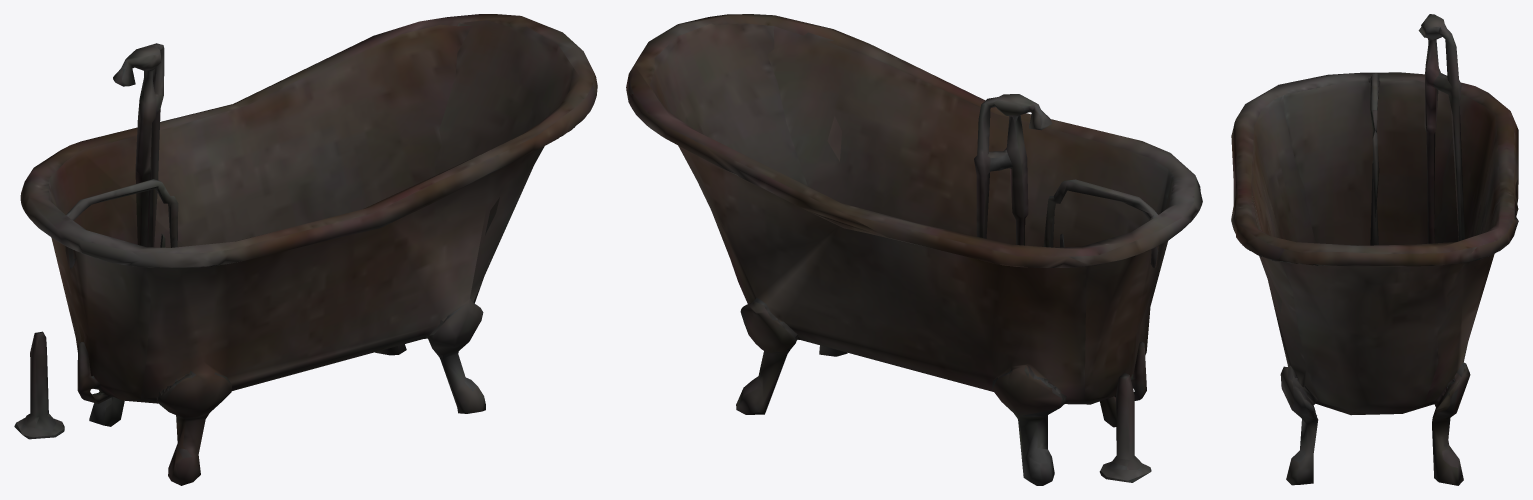
The model's file is chipped-iron-bathtub-v001.glb.
The picture shows the model from 3 angles, left to right: view 1: azimuth 30°, elevation 25°; view 2: azimuth 150°, elevation 25°; view 3: azimuth 270°, elevation 25°; orthographic projection. The views are drawn at different scales.
Visible parts, largest first — view 1: chipped-iron-bathtub; view 2: chipped-iron-bathtub; view 3: chipped-iron-bathtub.
Part boxes in pixels (box(x1,y1,x2,y2)): chipped-iron-bathtub: box(14, 14, 597, 485); chipped-iron-bathtub: box(626, 14, 1202, 485); chipped-iron-bathtub: box(1231, 14, 1518, 485).
Size of the model in its own units: 1.02 by 0.684 by 0.5178.
Materials: 1 (1 with a texture image).
